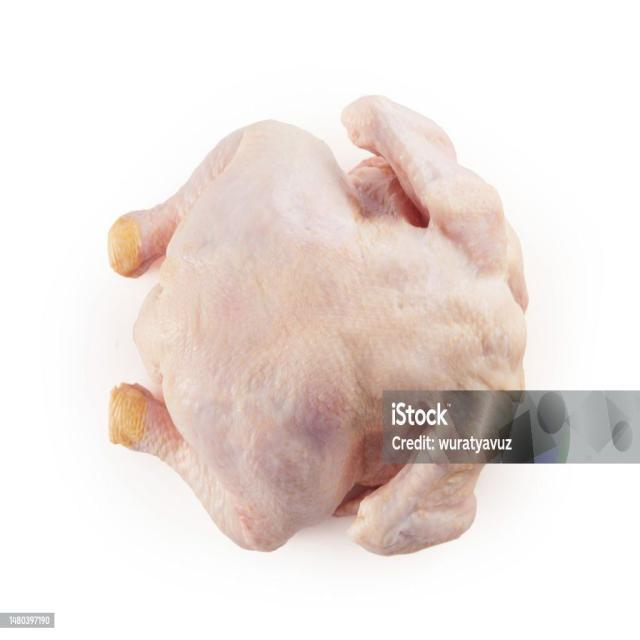Chicken: (94, 82, 551, 570)
